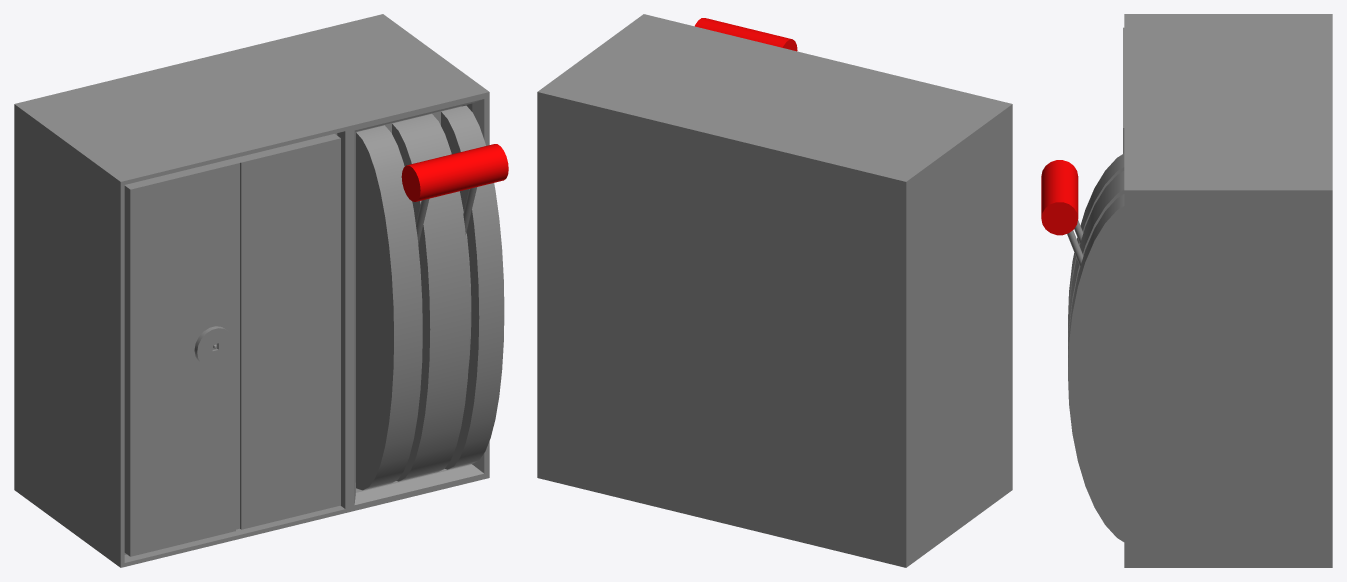
Rendered from Boitieréléctrique.FBX.
The picture shows the model from 3 angles, left to right: view 1: azimuth 30°, elevation 25°; view 2: azimuth 150°, elevation 25°; view 3: azimuth 270°, elevation 25°; orthographic projection. The views are drawn at different scales.
Parts seen in each view (by area): view 1: BoitierElectrique, Levier; view 2: BoitierElectrique, Levier; view 3: BoitierElectrique, Levier.
Part boxes in pixels (box(x1,y1,x2,y2)): BoitierElectrique: box(14, 14, 504, 567); Levier: box(401, 144, 508, 244); BoitierElectrique: box(537, 14, 1012, 567); Levier: box(695, 18, 797, 51); BoitierElectrique: box(1068, 14, 1332, 567); Levier: box(1041, 160, 1083, 266).
Bounding box in the file's own units: 40 × 40 × 27.95.
